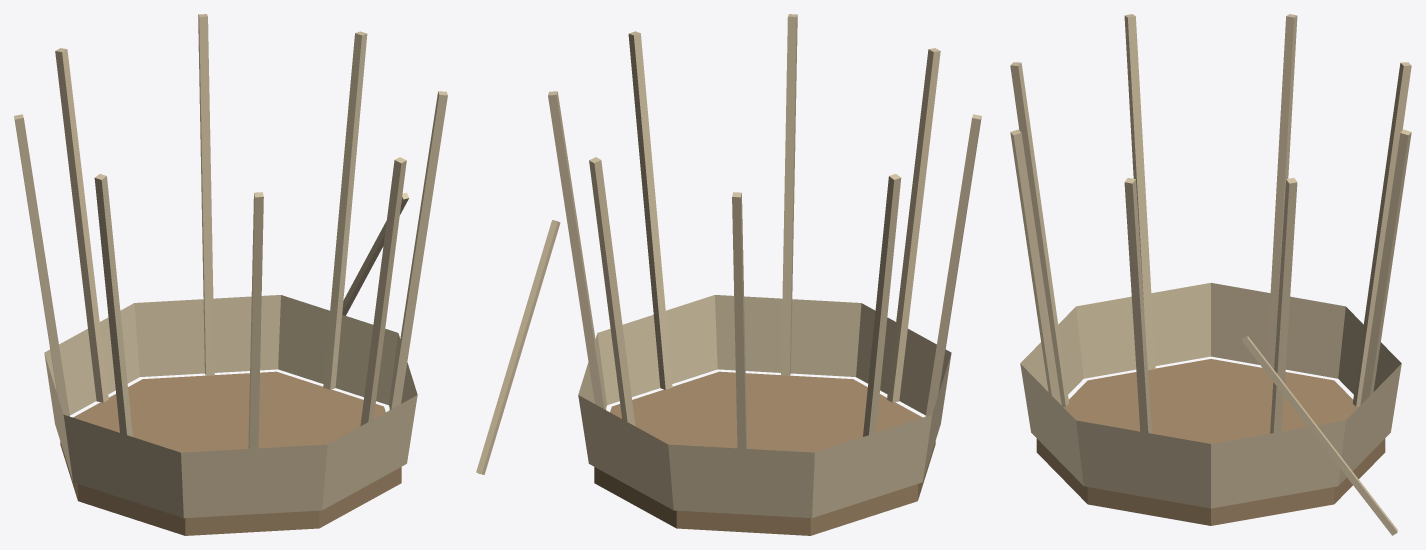
Rendered from prop-basket-unfinished.fbx.
3 views of the same model, side by side, from view 1: azimuth 30°, elevation 25°; view 2: azimuth 150°, elevation 25°; view 3: azimuth 270°, elevation 25° (orthographic).
Parts seen in each view (by area): view 1: prop-basket-unfinished; view 2: prop-basket-unfinished; view 3: prop-basket-unfinished.
Part boxes in pixels (left/top/right/bottom): prop-basket-unfinished: left=14, top=14, right=447, bottom=535; prop-basket-unfinished: left=476, top=14, right=981, bottom=535; prop-basket-unfinished: left=1010, top=14, right=1411, bottom=535.
Size of the model in its own units: 38.71 by 35.89 by 36.82.
